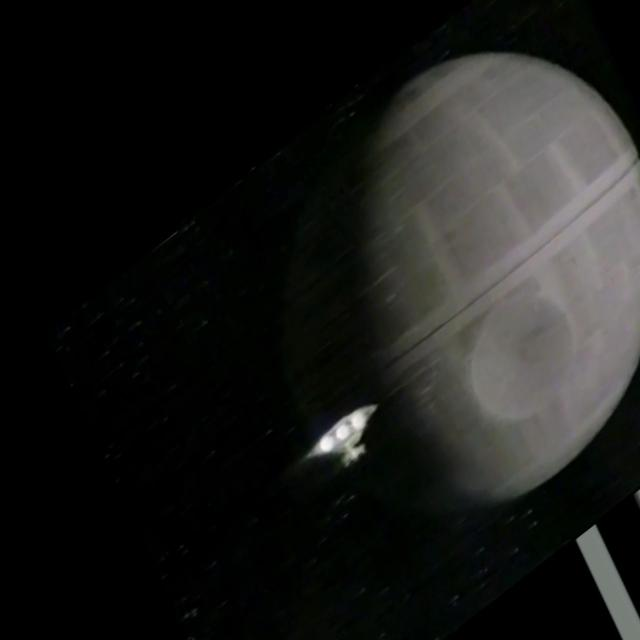deathstar: (346, 47, 640, 497)
